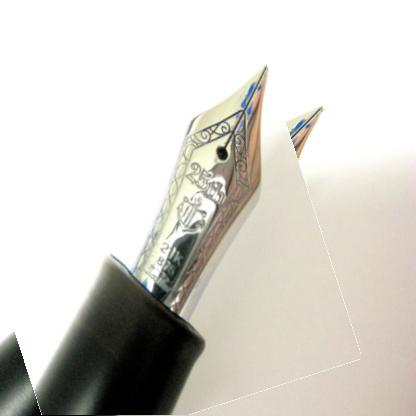Pen: (0, 82, 343, 415)
